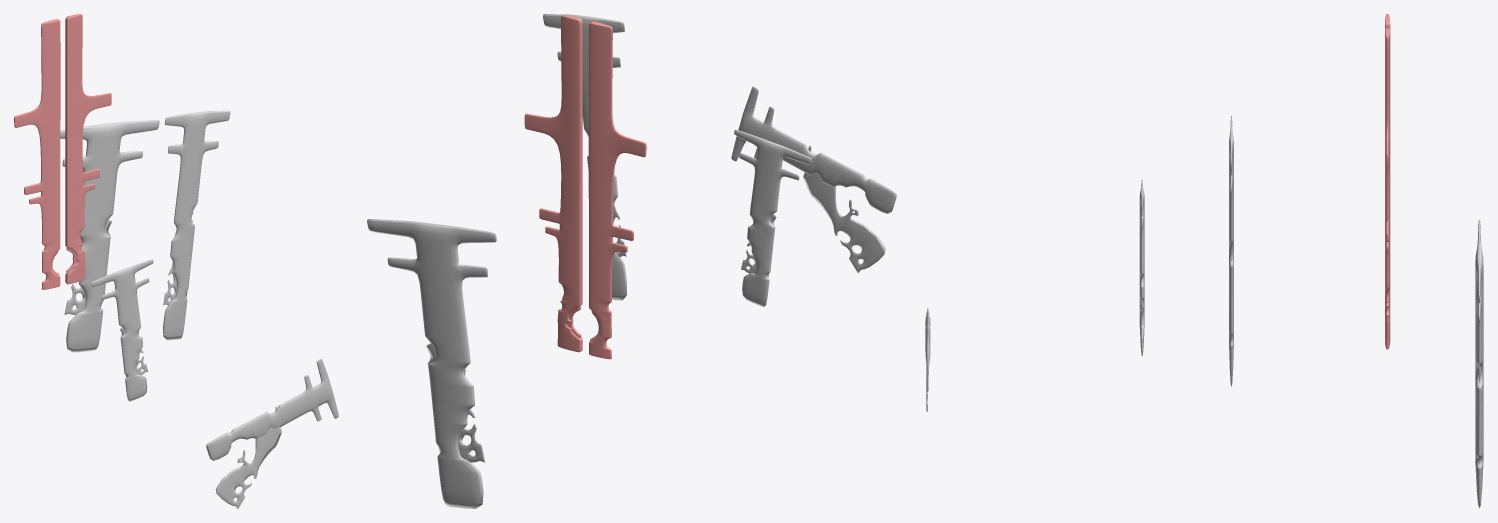
File: mobisi.fbx
3 views of the same model, side by side, from view 1: azimuth 30°, elevation 25°; view 2: azimuth 150°, elevation 25°; view 3: azimuth 270°, elevation 25° (orthographic). The views are drawn at different scales.
Parts seen in each view (by area): view 1: 平面, 平面.003, 平面.006, 平面.008, 平面.009, 平面.010, 平面.004; view 2: 平面, 平面.003, 平面.008, 平面.009, 平面.010, 平面.006, 平面.004; view 3: 平面.003, 平面, 平面.006, 平面.008.
Part boxes in pixels (bbox=[...]): 平面: bbox=[14, 14, 111, 289]; 平面.003: bbox=[60, 120, 159, 352]; 平面.006: bbox=[163, 110, 230, 340]; 平面.008: bbox=[91, 259, 153, 401]; 平面.009: bbox=[206, 358, 338, 460]; 平面.010: bbox=[215, 406, 281, 508]; 平面.004: bbox=[64, 219, 111, 314]; 平面: bbox=[524, 15, 646, 359]; 平面.003: bbox=[367, 219, 496, 508]; 平面.008: bbox=[734, 129, 811, 306]; 平面.009: bbox=[731, 86, 896, 213]; 平面.010: bbox=[803, 145, 885, 272]; 平面.006: bbox=[543, 14, 626, 300]; 平面.004: bbox=[426, 343, 484, 462]; 平面.003: bbox=[1475, 220, 1483, 508]; 平面: bbox=[1385, 14, 1390, 349]; 平面.006: bbox=[1229, 115, 1233, 386]; 平面.008: bbox=[1139, 179, 1144, 356].
Size of the model in its own units: 374 by 636 by 727.
